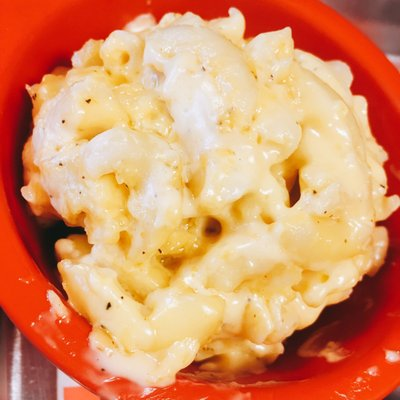sandwich: (15, 9, 400, 399)
